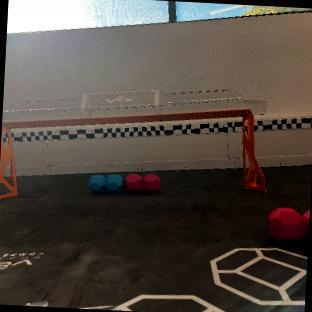Goal: (0, 89, 266, 197)
V5_BLUE: (88, 174, 123, 193)
V5_RED: (267, 207, 309, 241), (125, 173, 159, 192)
